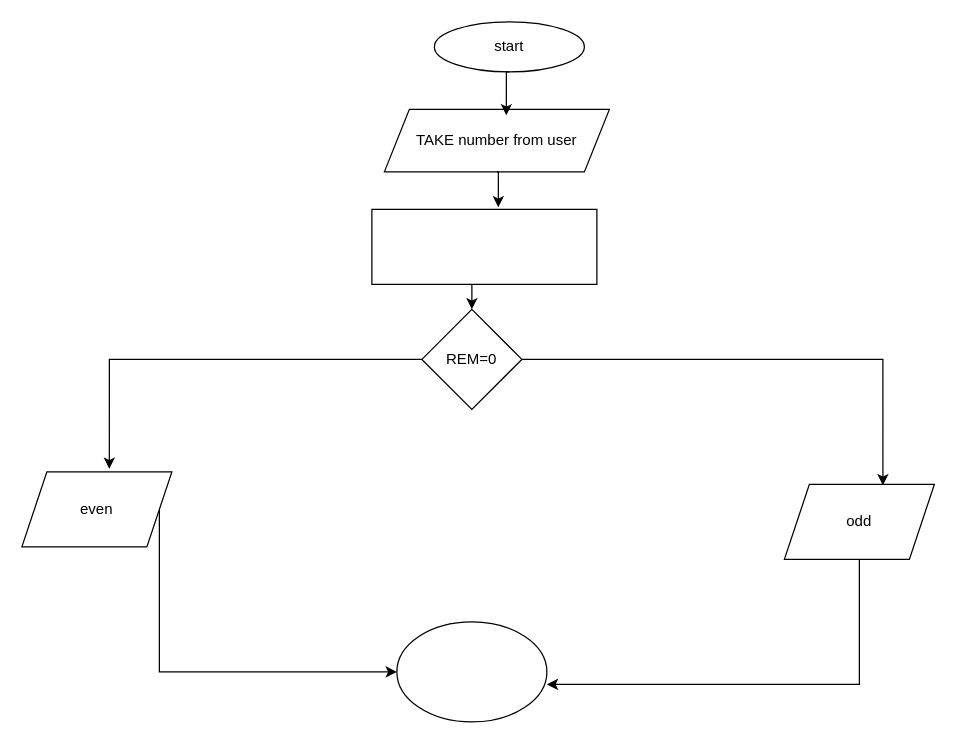
Some shapes in this 956 by 744 pixel diagram are drawn without their labels. Here are the shapes that lost their labels. From the top down, the centre of each, then its label:
the point at 484,246: REM=number%2
the point at 471,671: stop
